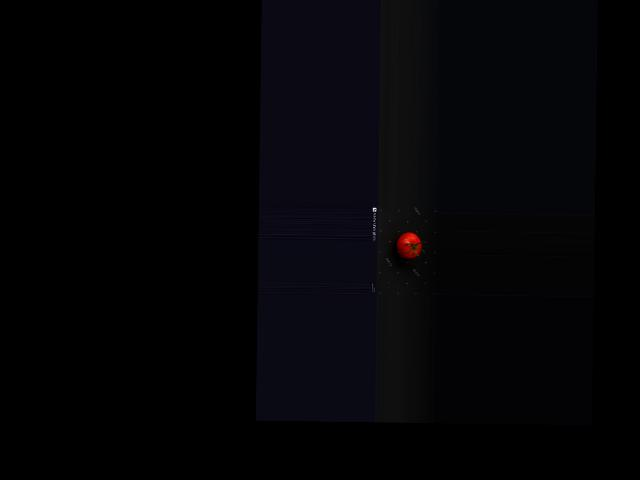tomato: (396, 232, 421, 260)
